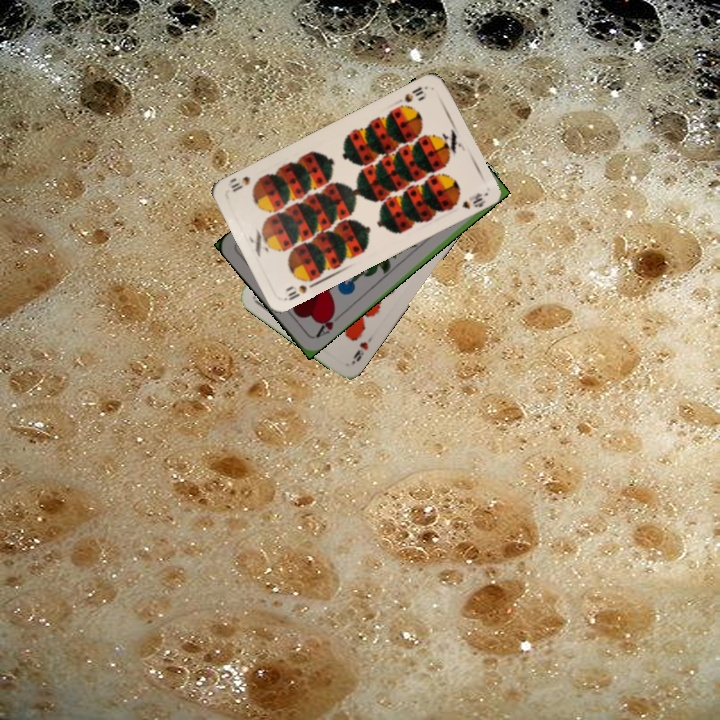H9: (347, 331, 376, 366)
HA: (311, 307, 338, 340)
S10: (281, 273, 319, 303), (400, 82, 426, 105)
